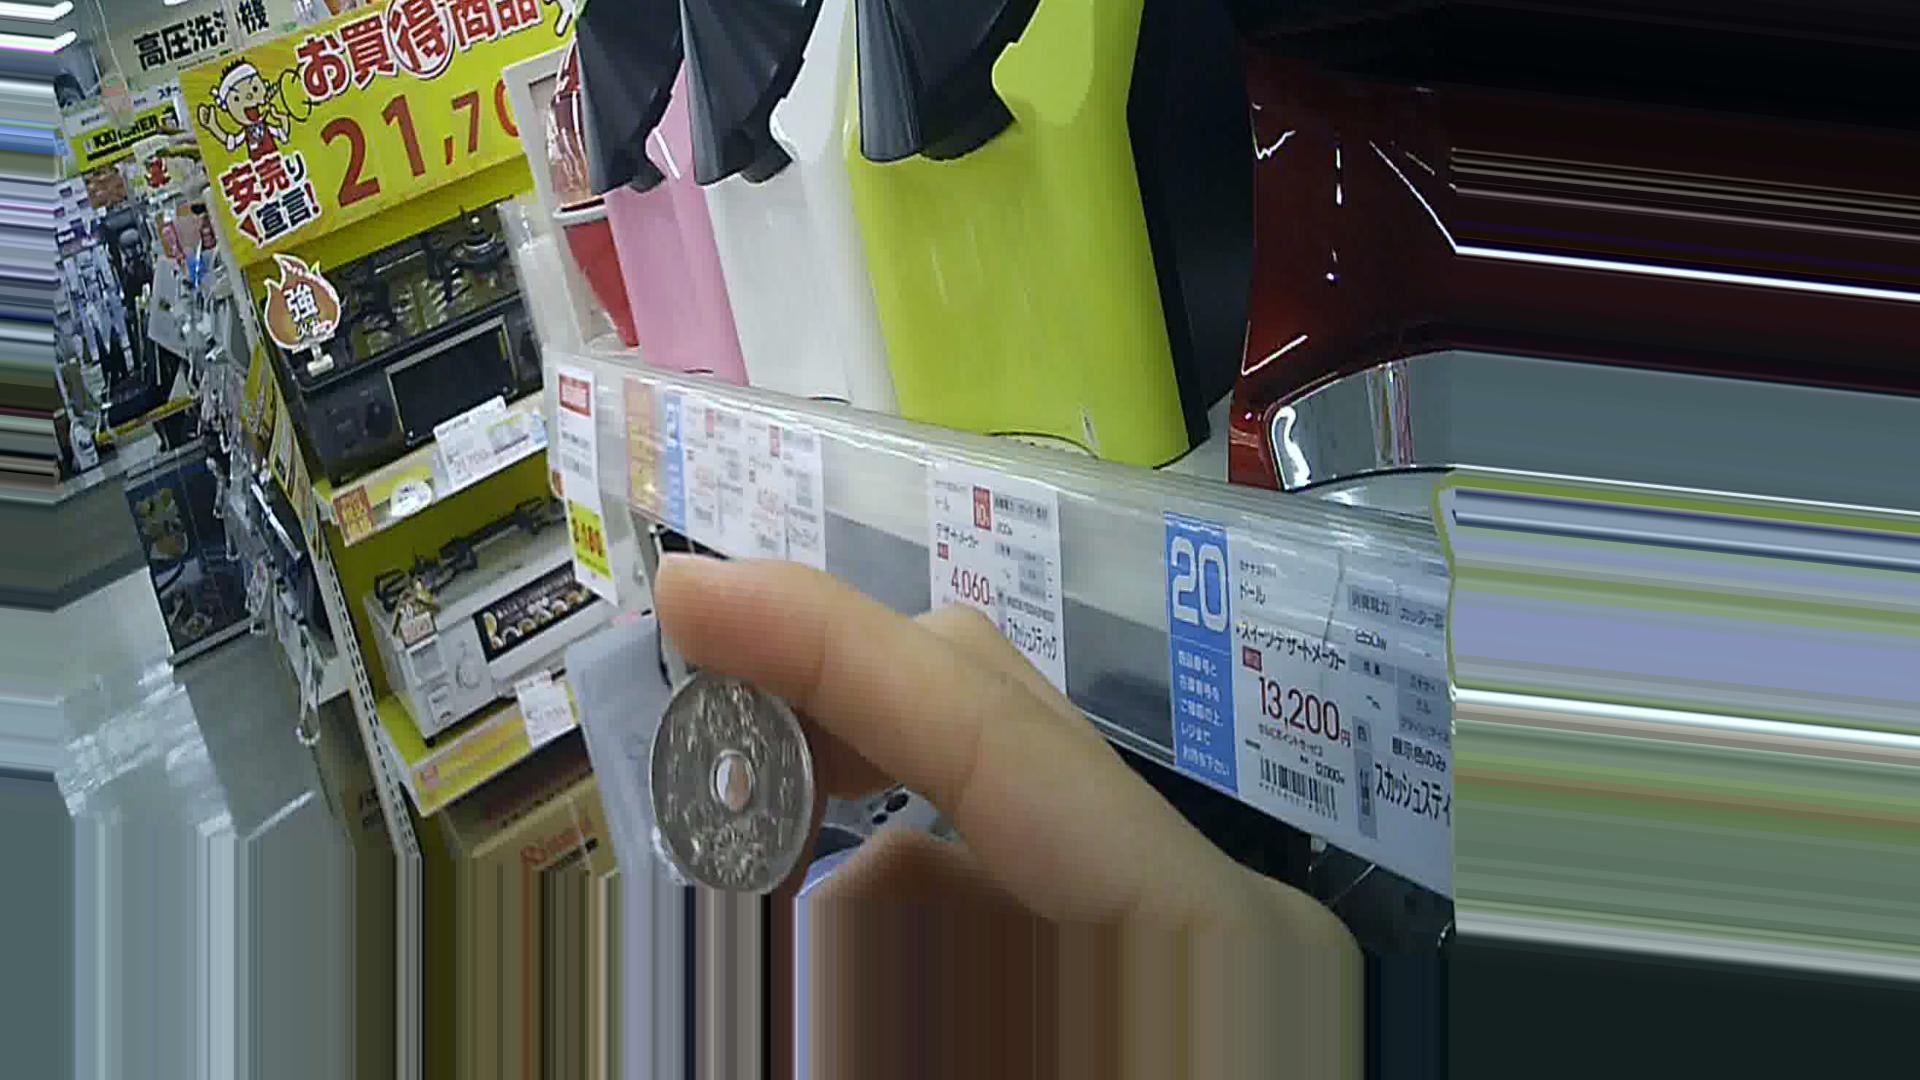50 Yen: (646, 663, 818, 898)
